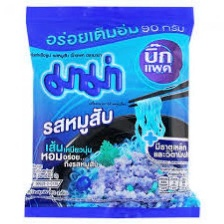snack: (14, 0, 206, 224)
